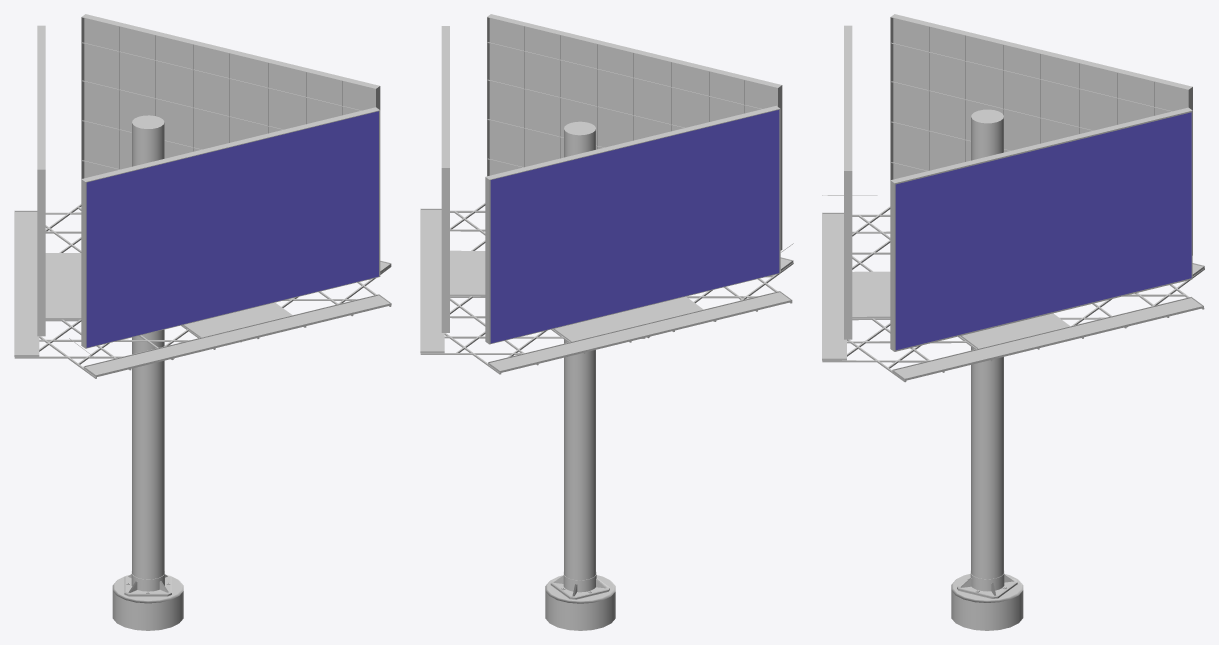
3 views of the same model, side by side, from view 1: azimuth 30°, elevation 25°; view 2: azimuth 150°, elevation 25°; view 3: azimuth 270°, elevation 25° (orthographic). The views are drawn at different scales.
Visible parts, largest first — view 1: Billboard00; view 2: Billboard00; view 3: Billboard00.
Part boxes in pixels (x1,y1,x2,y2): Billboard00: (14,14,391,630); Billboard00: (420,14,793,630); Billboard00: (822,14,1204,630).
Size of the model in its own units: 4924 by 6470 by 4282.
